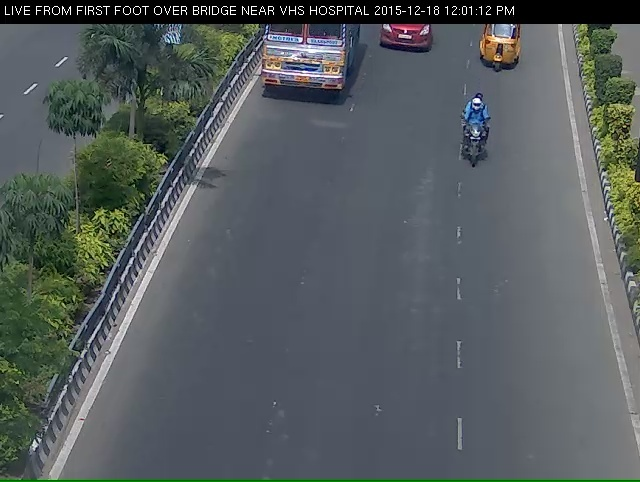Auto: (470, 24, 526, 78)
Bus: (253, 18, 353, 103)
Car: (372, 19, 436, 60)
Person: (463, 105, 497, 185)
